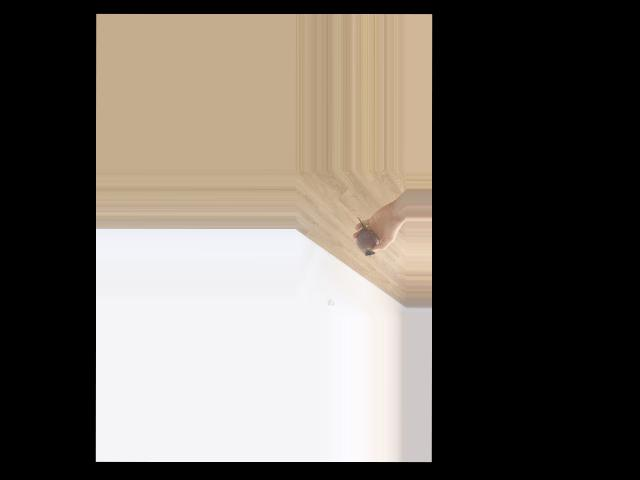beet: (355, 217, 378, 255)
